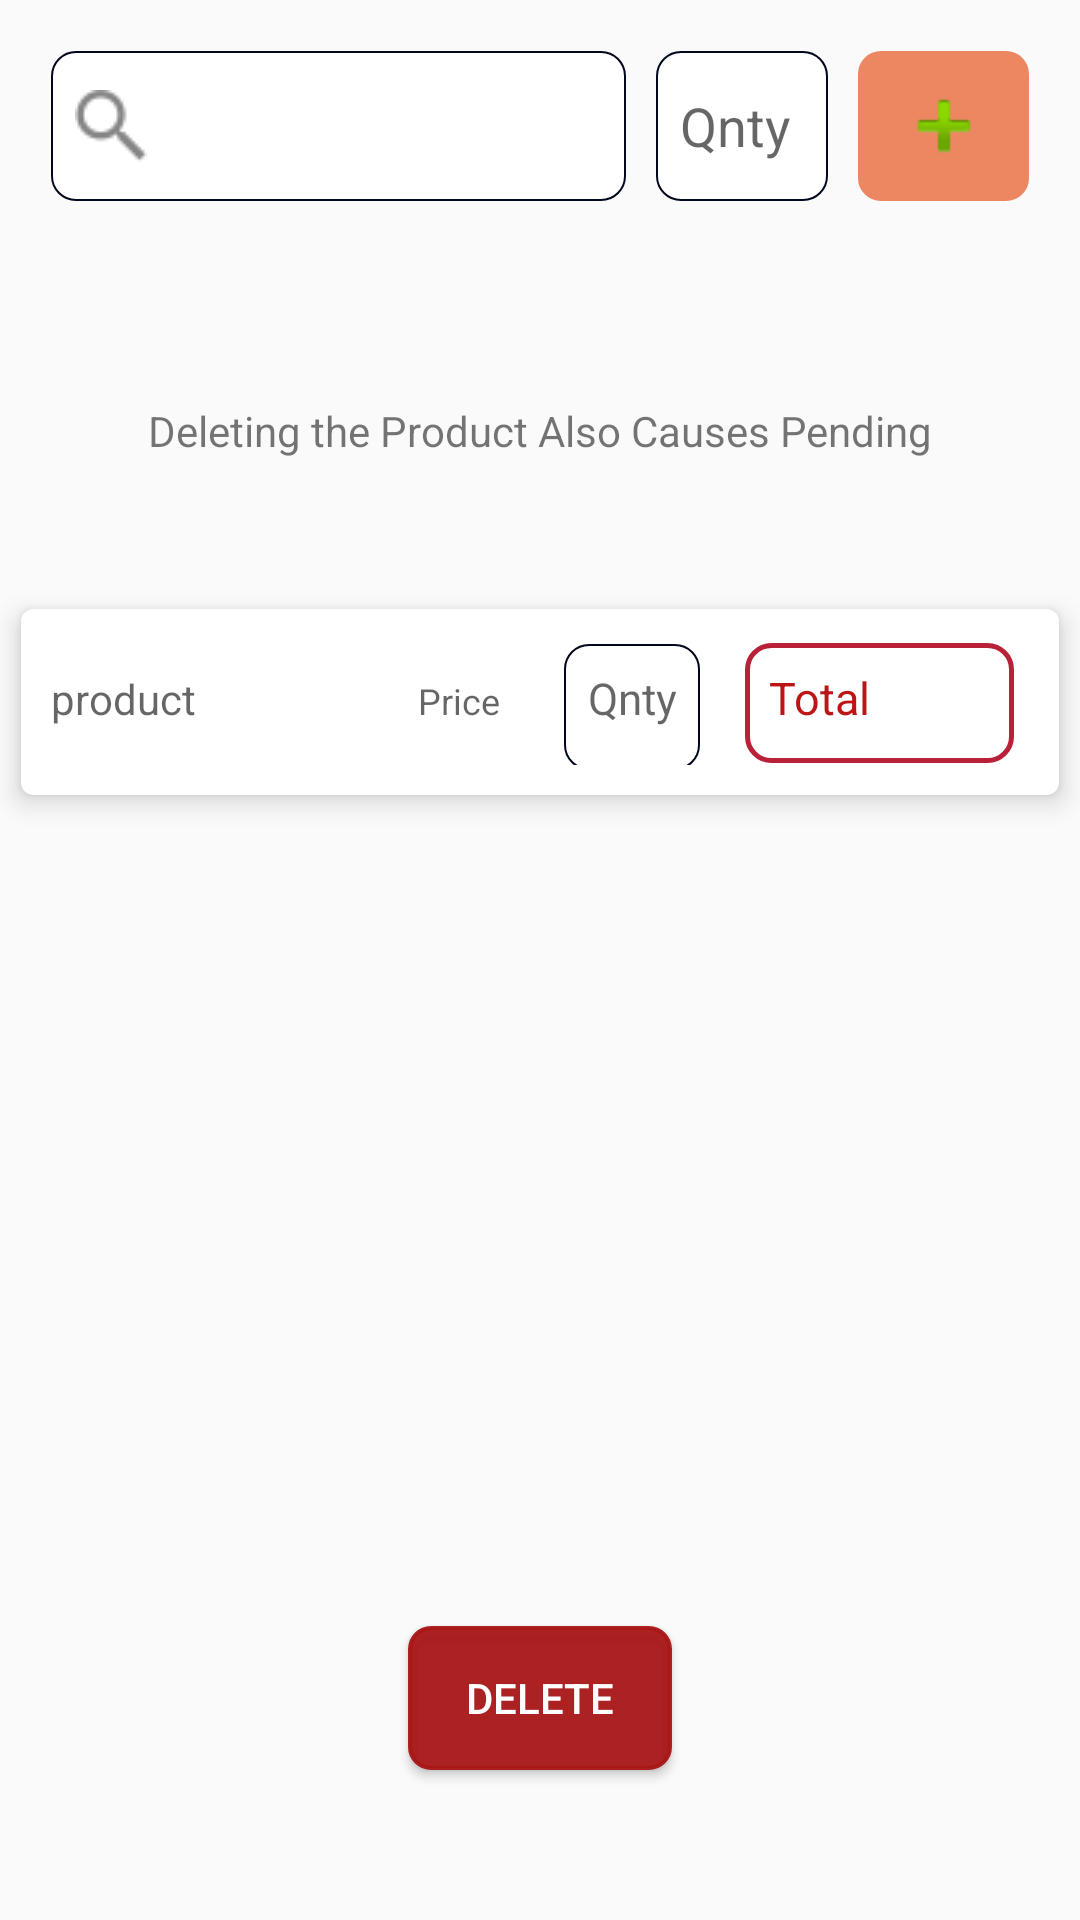

Icon bounding boxes for this 1080 × 1920 phone screenshot, format Rect(x1, y1, x2, y2):
add: Rect(858, 51, 1029, 201)
